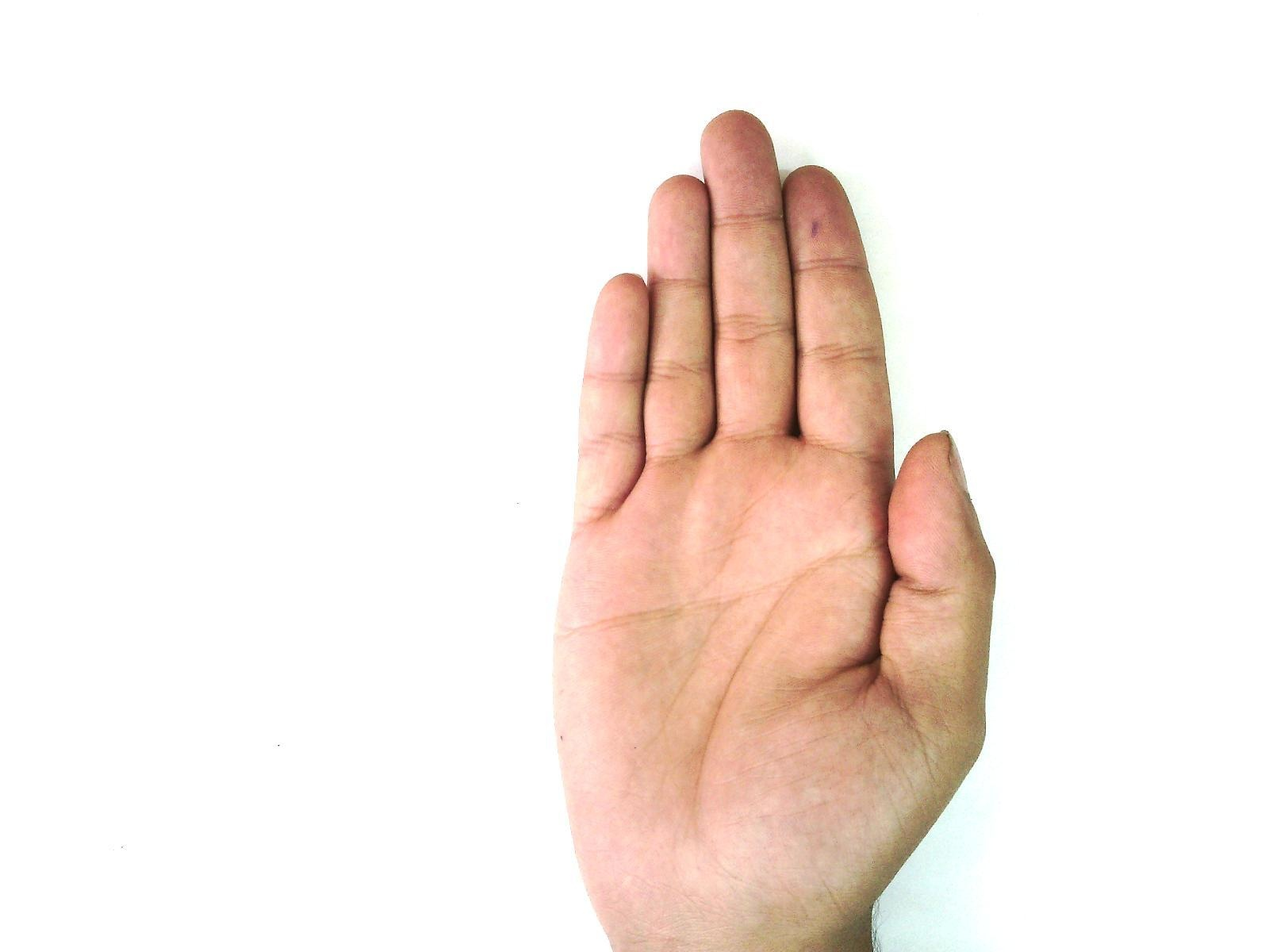open_palm: (548, 109, 1000, 950)
